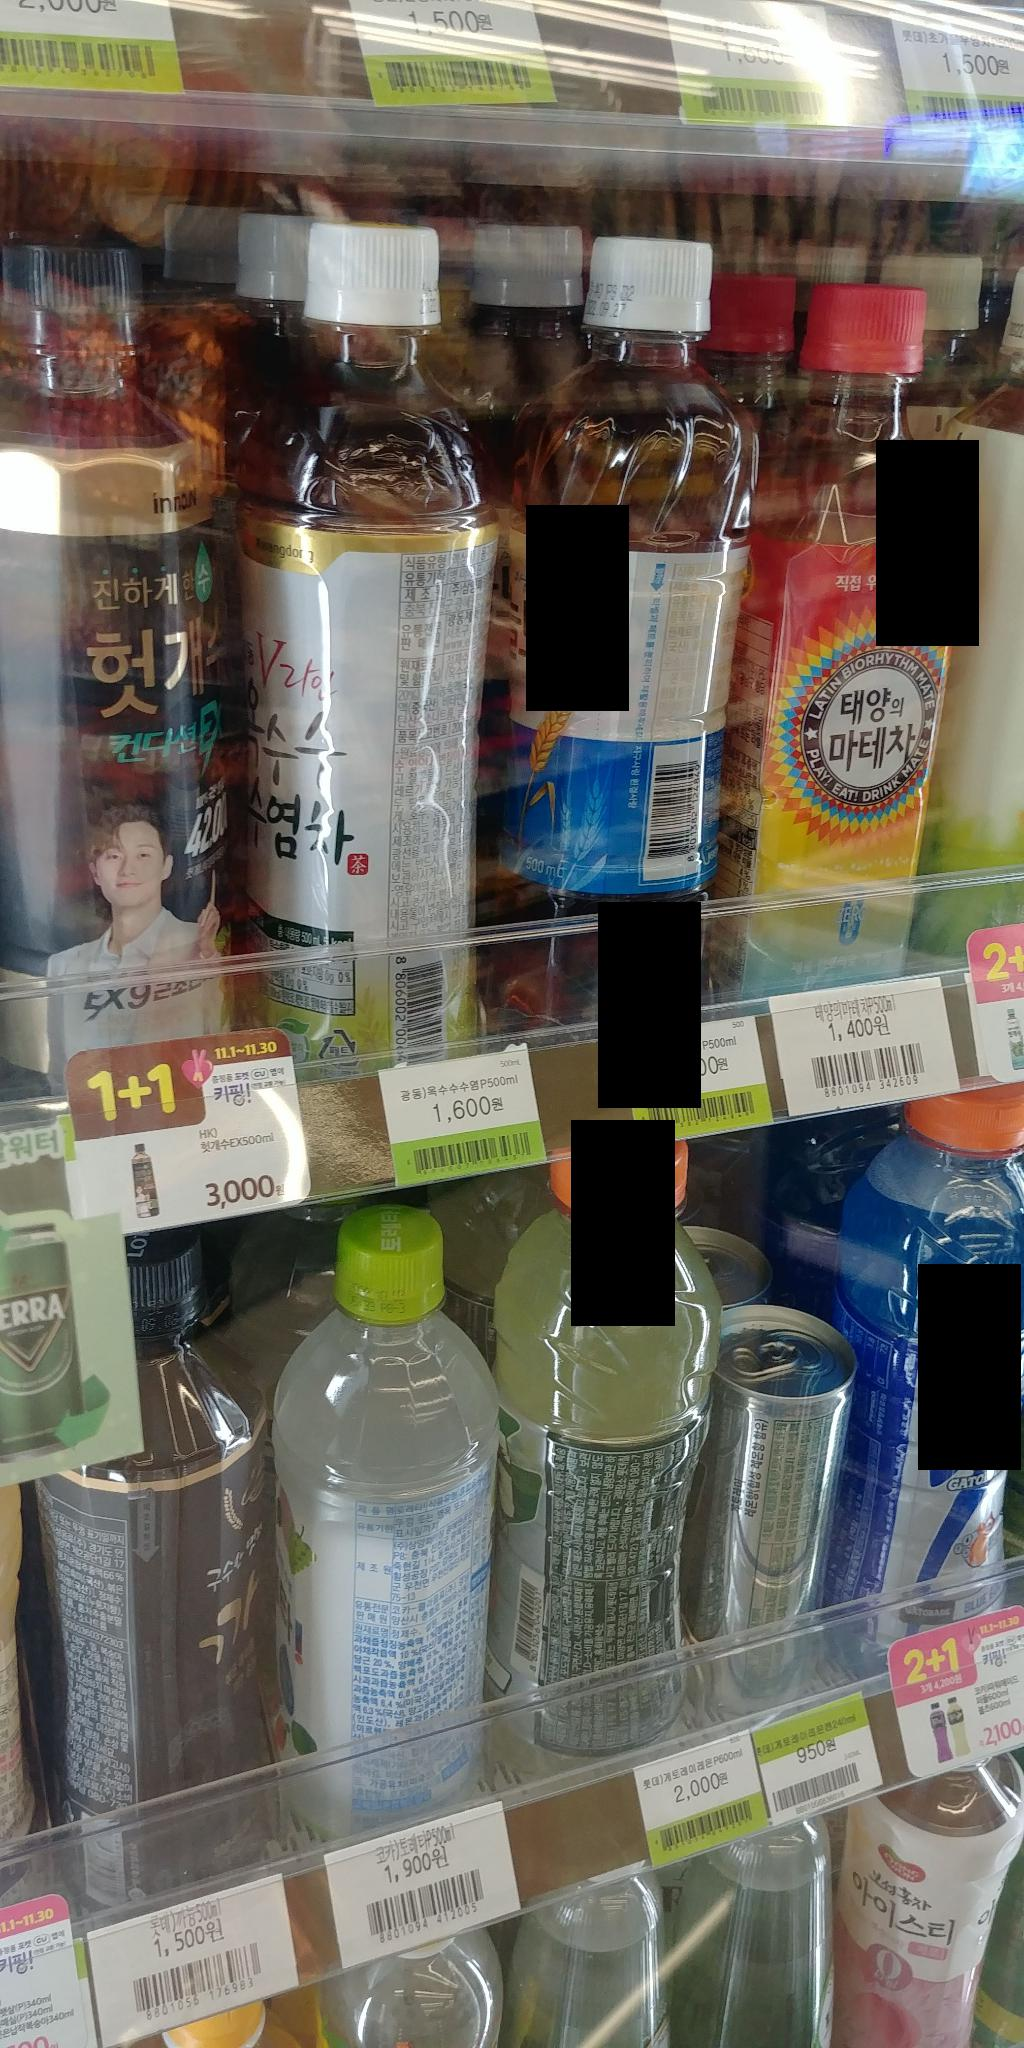gatorade_lemon: (464, 1149, 716, 1757)
haneulbori: (503, 209, 733, 1014)
oksususuyeomcha: (197, 222, 477, 1049)
toreta: (261, 1199, 504, 1831)
